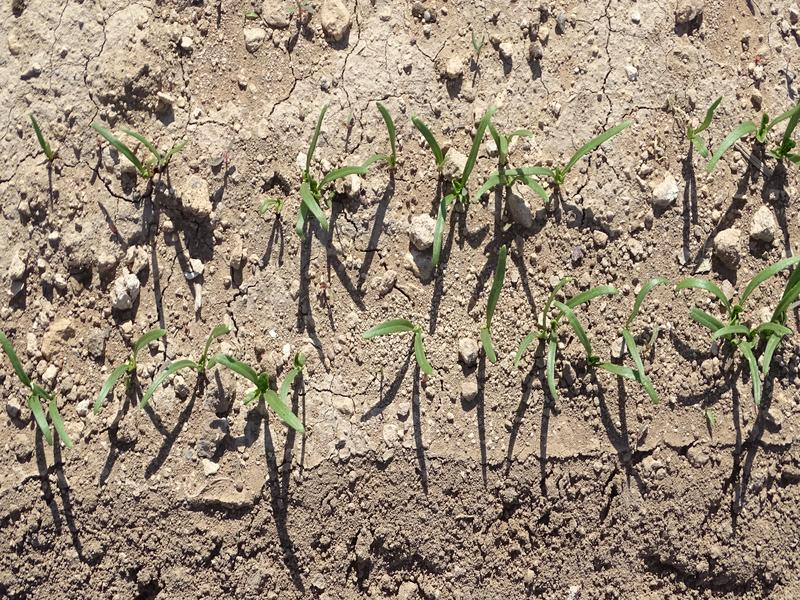Espinaca: (417, 115, 612, 257), (107, 334, 314, 428), (516, 272, 668, 396), (686, 262, 796, 385), (288, 104, 395, 227), (685, 97, 796, 174), (9, 339, 67, 442), (96, 120, 178, 180), (367, 318, 435, 379)
